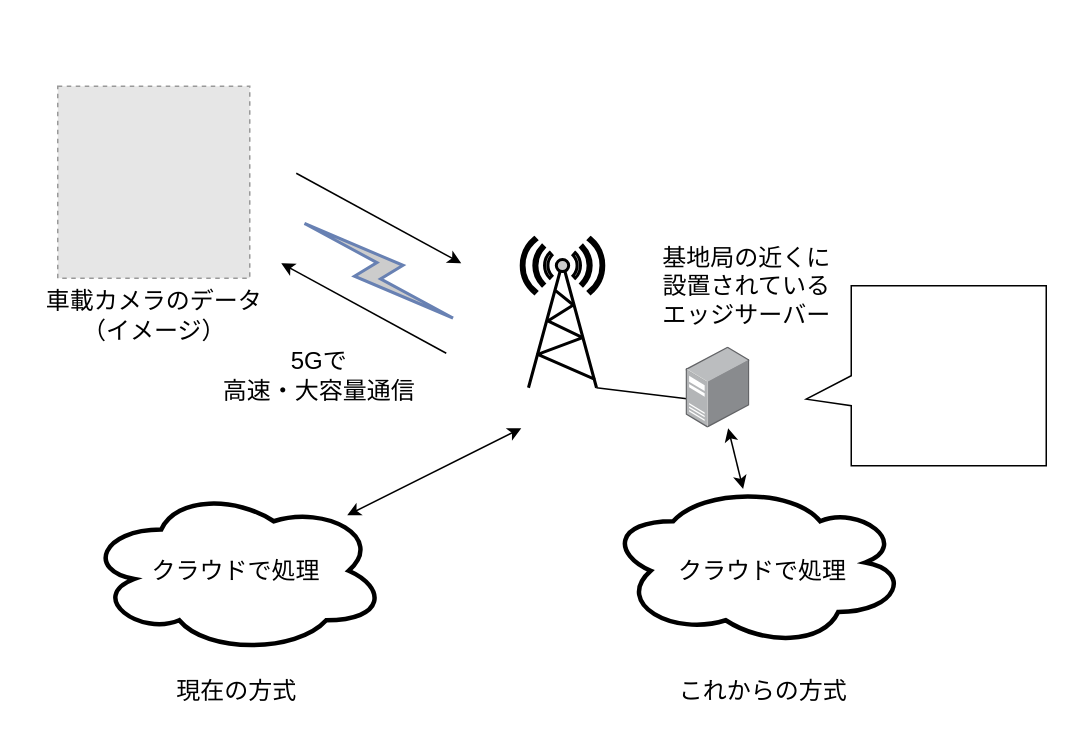
The diagram is 1073 pixels wide and 738 high, and some of its shapes have lost their labels. Grey dashed boxes stand in for pictures. Here are the shapes that lost their labels. From the top down, the centre of each, then its label:
point 561,312: 5G基地局
point 925,375: 今回のシステム の作成部分 ・画像圧縮 ・異常検知 ・画像認識 etc...
